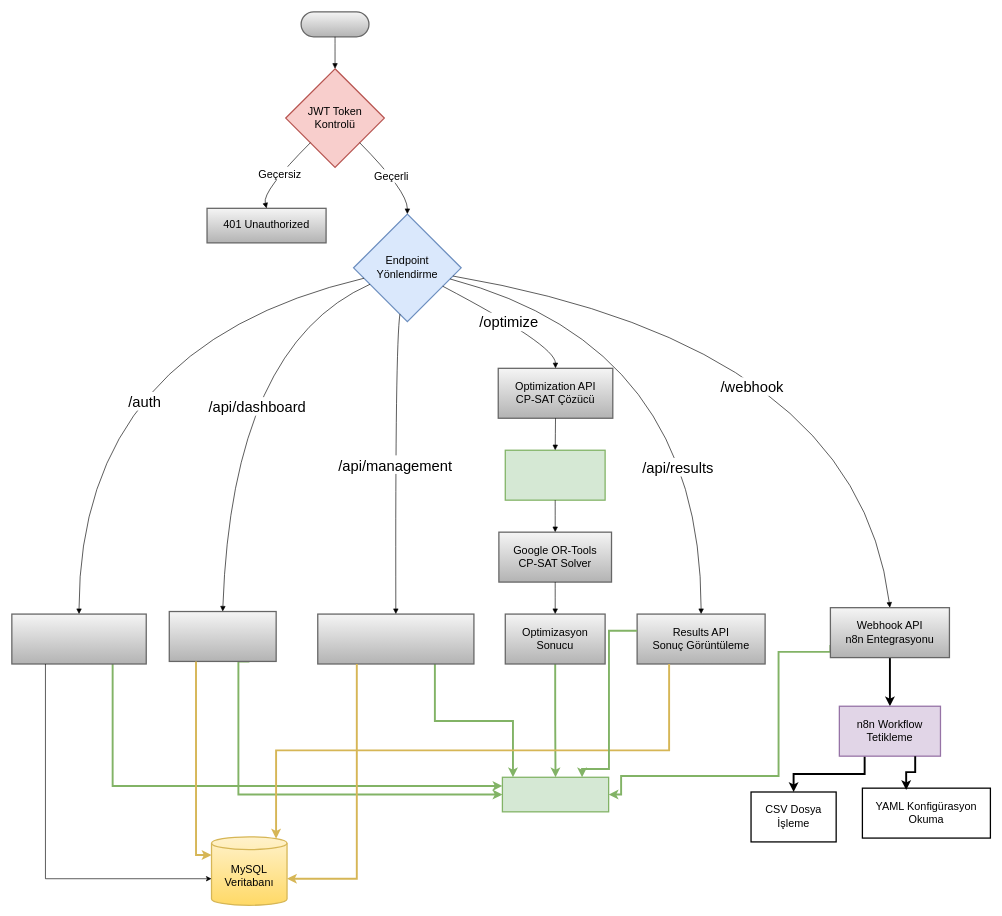
This 1002x916 diagram has some shape labels left out. Here are the shapes that lost their labels. From the top down, the centre of each, then its label:
point (334, 24): HTTP İsteği
point (554, 474): CP-SAT Model Builder
point (79, 638): Authentication API Login/Logout/Profile
point (222, 636): Dashboard API Sistem Durumu
point (395, 638): Management API Kullanıcı/Kurum Yönetimi
point (555, 794): JSON Cevabı
